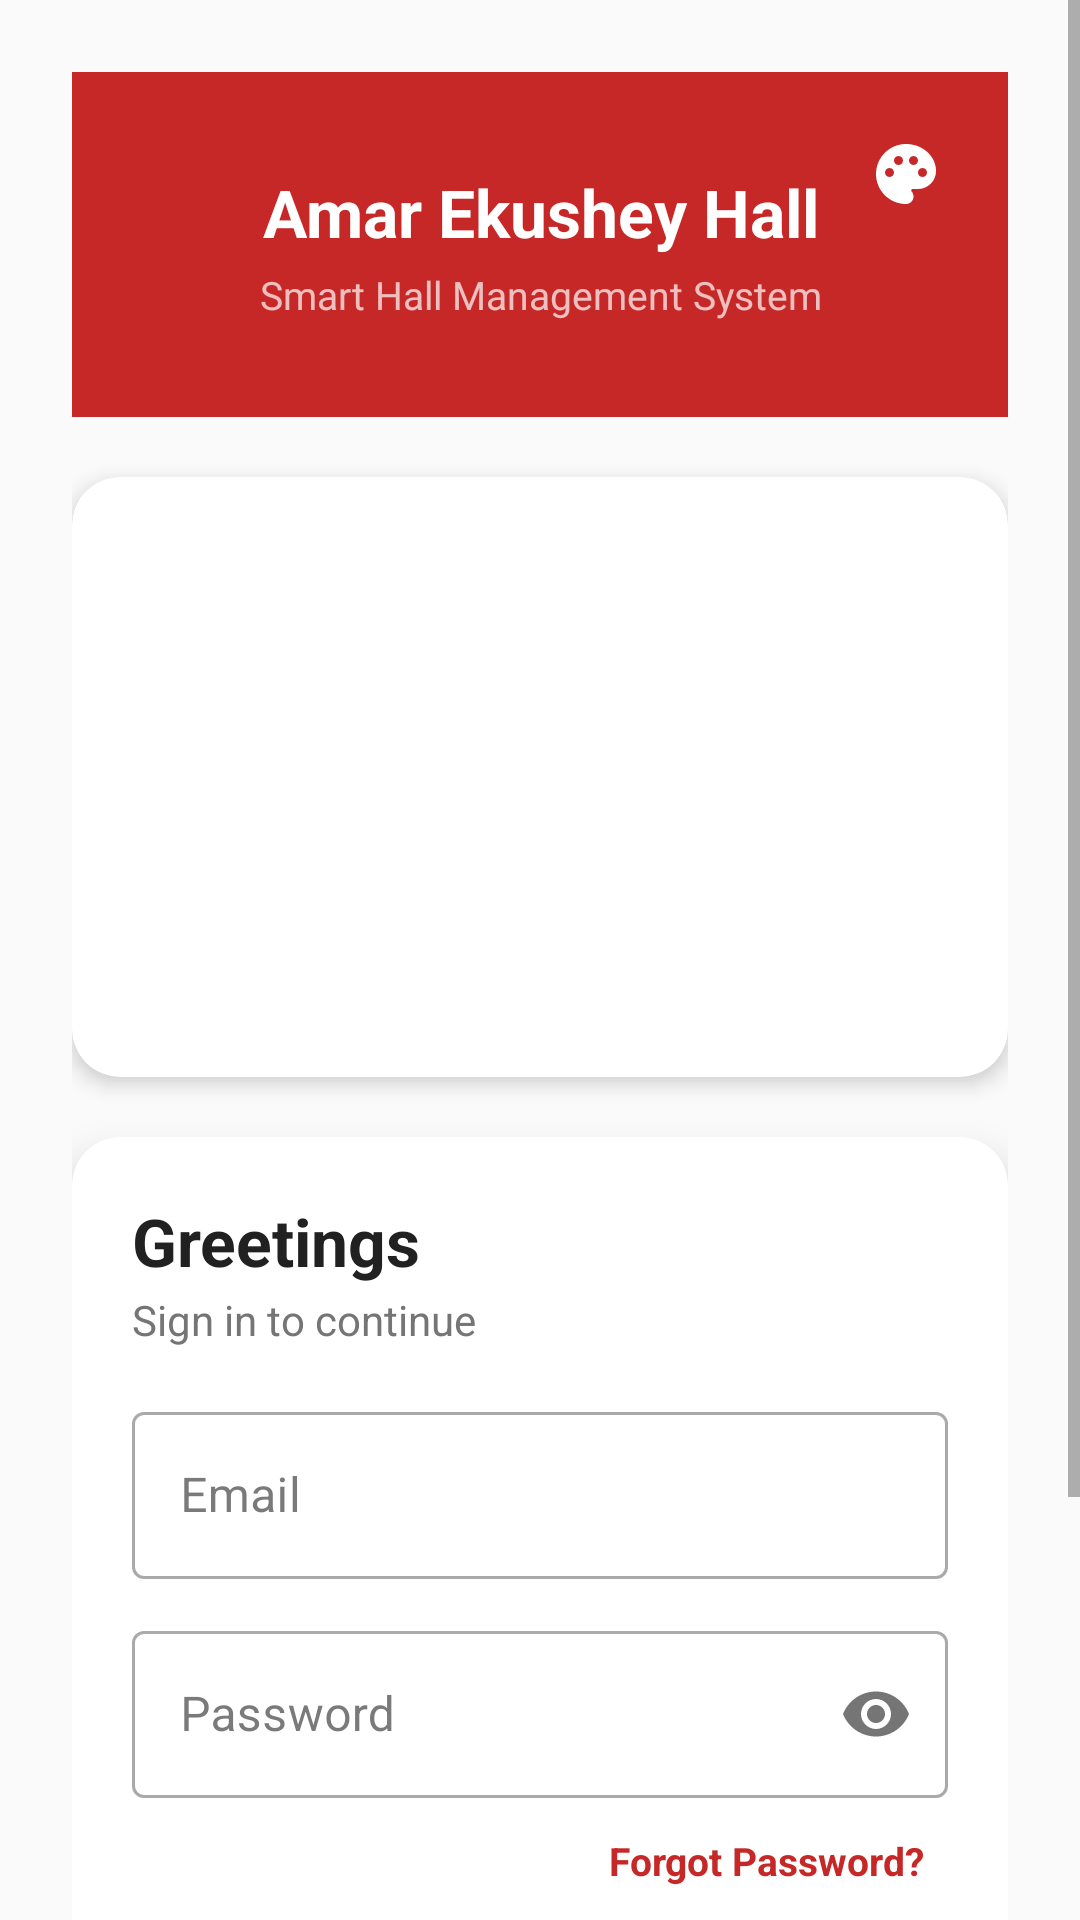

Icons on this 1080 x 1920 Android screen, each with its box as (x1, y1, x2, y2):
Theme Selection: (876, 144, 936, 204)
